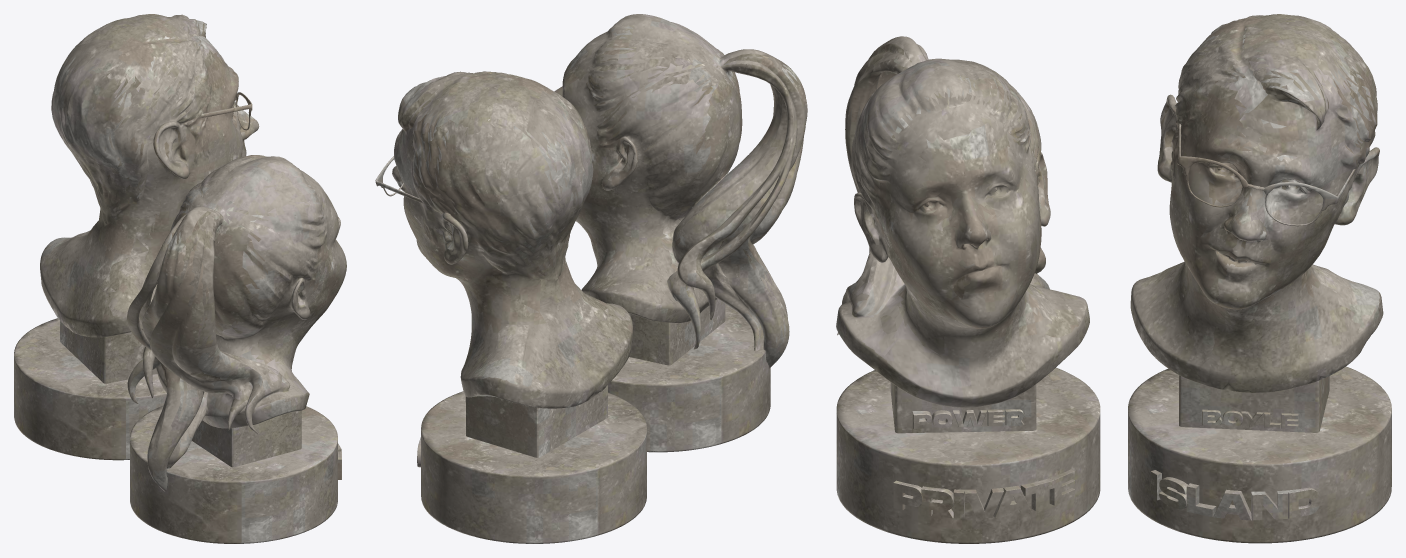
3 renders of one model, left to right at view 1: azimuth 30°, elevation 25°; view 2: azimuth 150°, elevation 25°; view 3: azimuth 270°, elevation 25°, orthographic. The views are drawn at different scales.
Visible parts, largest first — view 1: Helen_1_1; view 2: Helen_1_1; view 3: Helen_1_1.
Part boxes in pixels (left/top/right/bottom): Helen_1_1: left=14, top=14, right=346, bottom=543; Helen_1_1: left=375, top=14, right=807, bottom=543; Helen_1_1: left=836, top=14, right=1391, bottom=543.
Size of the model in its own units: 4.3 by 6.4 by 6.7.
Materials: 1 (1 with a texture image).
